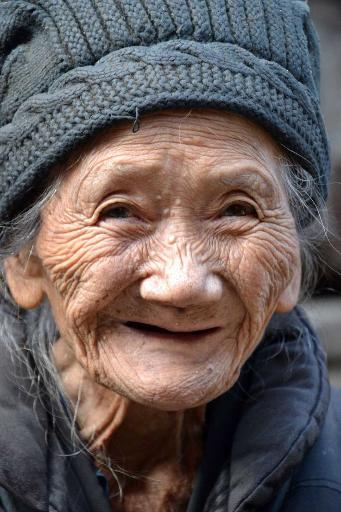left_eye: (217, 199, 262, 230), (115, 309, 137, 333)
left_lip_corner: (208, 320, 229, 342)
right_eye: (98, 202, 150, 232)
